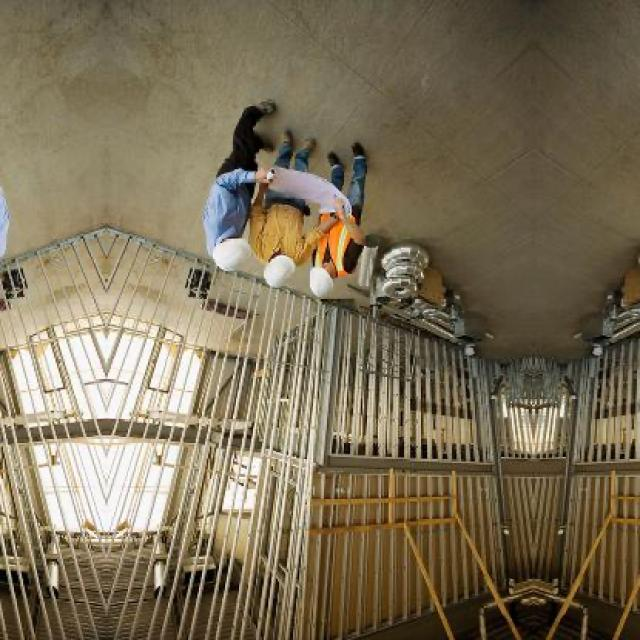con casco: (193, 226, 251, 286), (261, 229, 307, 289), (301, 266, 375, 303)
